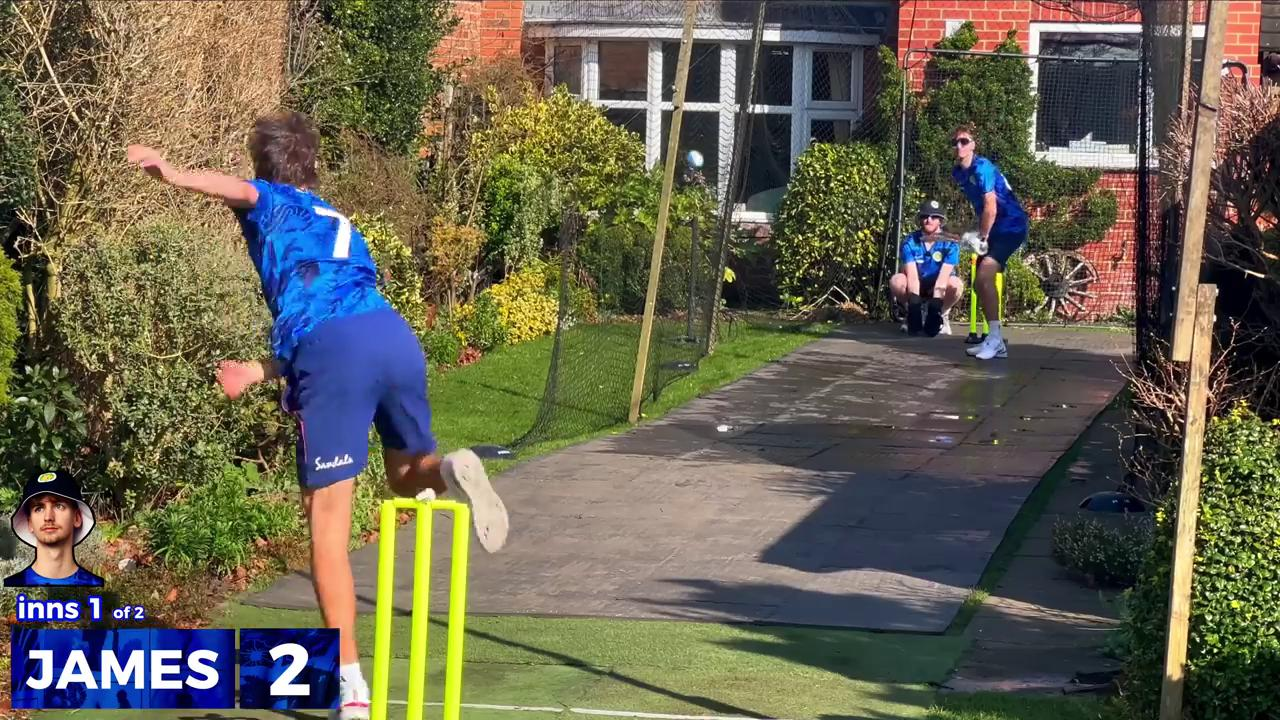ball: (676, 145, 710, 178)
